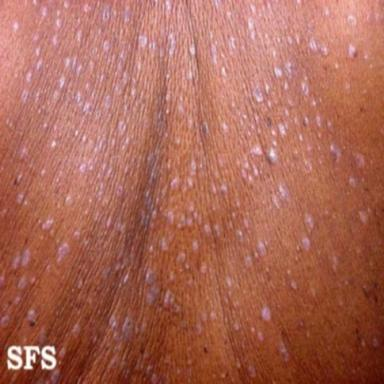lichen: (163, 290, 180, 313), (146, 286, 159, 305), (122, 317, 132, 340), (57, 243, 69, 262), (278, 184, 289, 202), (330, 144, 341, 162), (279, 343, 289, 362), (178, 215, 193, 227), (168, 33, 175, 56), (247, 18, 254, 40), (21, 249, 30, 266), (261, 307, 271, 322), (257, 241, 266, 257), (285, 61, 293, 78), (71, 322, 80, 337), (42, 219, 53, 231), (251, 145, 263, 156), (355, 154, 365, 167), (305, 214, 313, 230), (39, 328, 47, 344), (302, 237, 311, 251), (254, 88, 263, 102), (211, 44, 217, 65), (247, 366, 257, 378), (241, 162, 249, 177), (1, 315, 10, 328), (359, 211, 368, 224), (348, 44, 357, 57), (193, 211, 202, 224), (51, 370, 60, 383), (12, 256, 20, 270), (103, 5, 110, 21), (269, 149, 277, 163), (145, 270, 153, 284), (109, 315, 117, 329), (315, 114, 323, 128), (170, 177, 179, 189), (118, 51, 124, 69), (18, 277, 26, 290), (35, 58, 43, 71), (139, 35, 147, 48), (301, 82, 309, 95), (117, 222, 125, 235), (14, 174, 23, 185), (347, 15, 356, 26), (124, 8, 131, 22), (119, 121, 126, 135), (245, 256, 253, 268), (278, 124, 286, 136), (167, 211, 174, 224), (35, 105, 45, 114), (22, 90, 29, 102), (161, 239, 168, 251), (114, 84, 121, 96), (105, 95, 111, 109), (28, 310, 36, 320), (177, 253, 185, 263), (83, 102, 91, 112), (215, 224, 221, 237), (191, 161, 197, 174), (203, 122, 209, 135), (229, 37, 235, 50), (76, 65, 83, 76), (310, 40, 317, 51), (59, 347, 66, 358), (25, 71, 31, 83), (59, 77, 65, 89), (76, 92, 82, 104), (327, 121, 333, 133), (165, 0, 171, 12), (237, 230, 243, 242), (17, 194, 24, 204), (204, 224, 211, 234), (200, 264, 207, 274), (275, 68, 282, 78), (73, 230, 80, 240), (103, 268, 110, 278), (13, 21, 19, 32), (52, 35, 58, 46), (196, 324, 202, 335), (53, 90, 59, 101), (149, 42, 157, 50), (348, 177, 355, 186), (321, 46, 328, 55), (79, 164, 86, 173), (302, 117, 309, 126), (0, 275, 5, 287), (20, 147, 26, 157), (77, 30, 82, 42), (65, 57, 71, 67), (103, 41, 109, 51), (192, 241, 198, 251), (221, 67, 227, 77), (117, 186, 123, 196), (187, 70, 193, 80), (131, 87, 137, 97), (187, 119, 193, 129), (226, 277, 232, 287), (190, 44, 195, 55), (35, 91, 40, 102), (35, 47, 41, 56), (209, 312, 215, 321), (201, 313, 207, 322), (291, 281, 297, 290), (187, 178, 193, 187), (253, 166, 259, 175), (123, 71, 127, 84), (42, 7, 47, 17), (258, 332, 263, 342), (211, 185, 216, 195), (265, 84, 270, 94), (233, 323, 239, 331), (221, 185, 227, 193), (247, 175, 253, 183), (95, 111, 101, 119), (215, 0, 221, 8), (56, 19, 61, 28), (124, 273, 129, 282), (179, 105, 184, 114), (65, 196, 71, 203), (245, 130, 251, 137), (51, 140, 56, 148), (41, 169, 46, 177), (33, 34, 38, 42), (222, 123, 227, 131), (89, 61, 94, 69), (73, 57, 77, 66), (137, 62, 141, 71), (64, 1, 69, 8), (189, 205, 194, 212), (85, 83, 90, 90), (284, 82, 288, 90), (100, 74, 104, 82), (271, 130, 276, 136), (285, 109, 289, 116), (82, 135, 86, 142), (91, 92, 95, 99), (272, 141, 277, 146), (268, 101, 271, 109), (75, 130, 79, 135), (43, 123, 47, 128), (57, 10, 60, 15)
